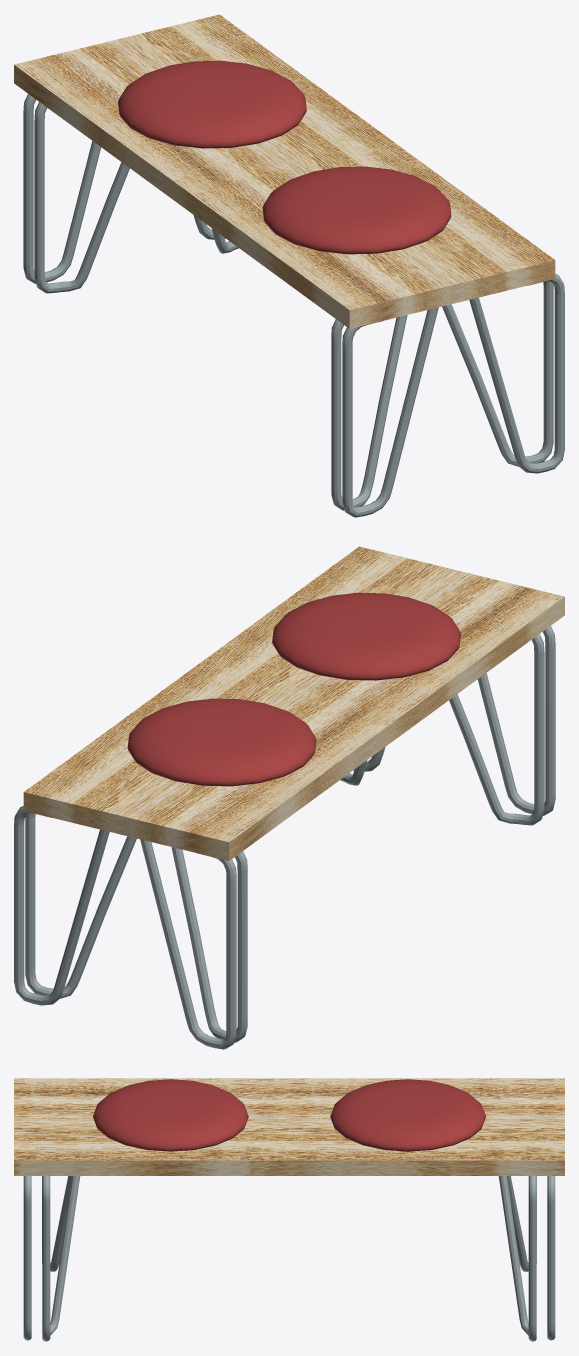
Rendered from Haga_bänk.fbx.
The picture shows the model from 3 angles, top to bottom: view 1: azimuth 30°, elevation 25°; view 2: azimuth 150°, elevation 25°; view 3: azimuth 270°, elevation 25°; orthographic projection. The views are drawn at different scales.
Parts seen in each view (by area): view 1: pCylinder17; view 2: pCylinder17; view 3: pCylinder17.
Part boxes in pixels (bbox=[...]): pCylinder17: bbox=[14, 14, 564, 517]; pCylinder17: bbox=[14, 546, 564, 1049]; pCylinder17: bbox=[14, 1078, 564, 1341].
Bounding box in the file's own units: 49.87 × 50.95 × 130.
Materials: 3 (1 with a texture image).
